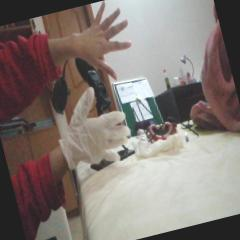gloved: (47, 78, 136, 174)
not-gloved: (54, 0, 141, 89)
